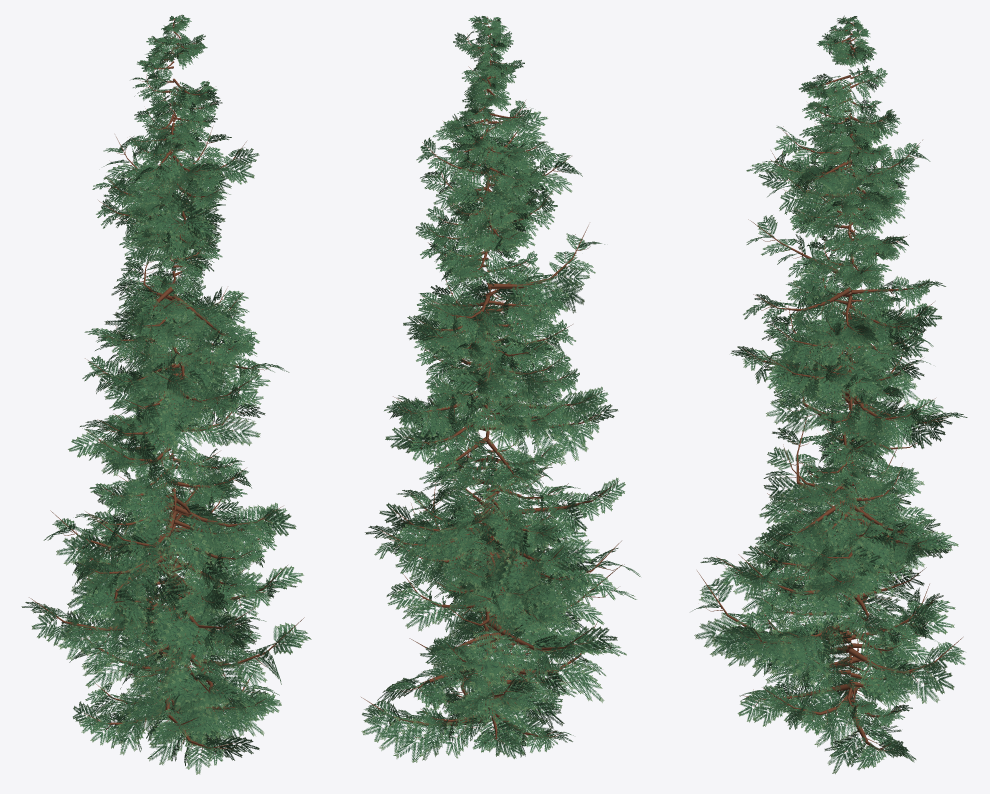
The model's file is forest-giant-lod1.meshopt.glb.
3 renders of one model, left to right at view 1: azimuth 30°, elevation 25°; view 2: azimuth 150°, elevation 25°; view 3: azimuth 270°, elevation 25°, orthographic. The views are drawn at different scales.
Visible parts, largest first — view 1: redwood-crown; view 2: redwood-crown; view 3: redwood-crown.
Boxes of the visible parts, x1=… form: redwood-crown: x1=21, y1=14, x2=311, y2=774; redwood-crown: x1=361, y1=15, x2=640, y2=762; redwood-crown: x1=691, y1=15, x2=967, y2=773.
Size of the model in its own units: 22.4 by 62.21 by 22.63.
4 materials, 3 textured.
